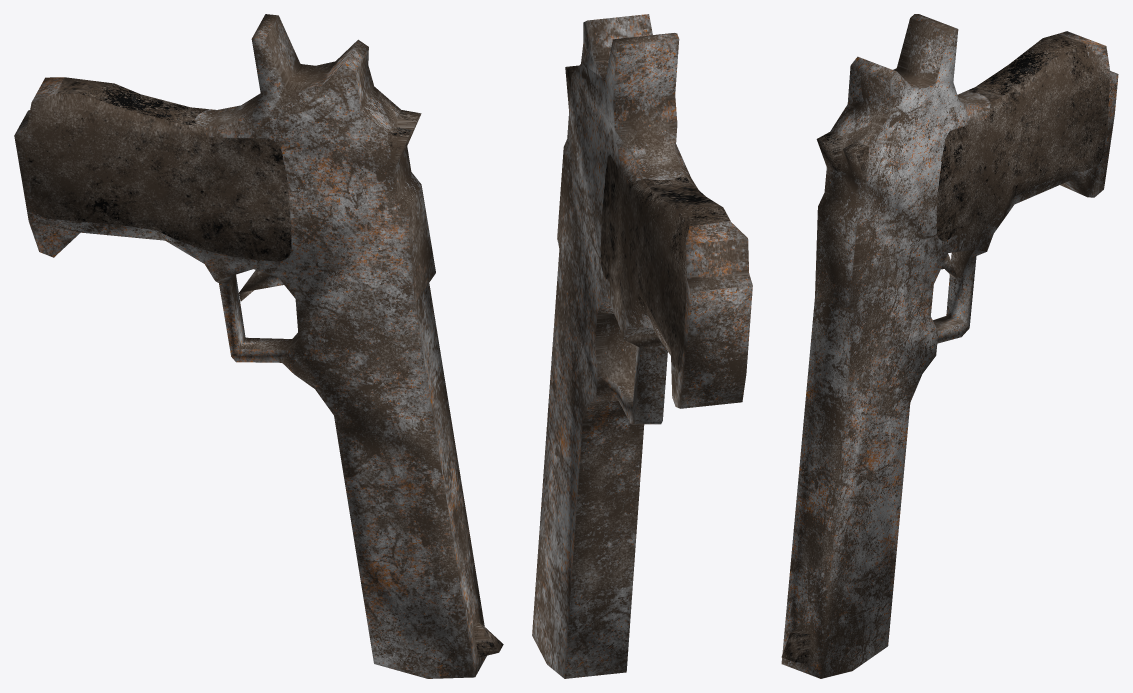
Rendered from Anim_idle_pistola_objetos.0037.obj.
The picture shows the model from 3 angles, left to right: view 1: azimuth 30°, elevation 25°; view 2: azimuth 150°, elevation 25°; view 3: azimuth 270°, elevation 25°; orthographic projection. The views are drawn at different scales.
Visible parts, largest first — view 1: Pistola1; view 2: Pistola1; view 3: Pistola1.
Boxes of the visible parts, left/top/right/bottom form: Pistola1: left=14, top=14, right=503, bottom=678; Pistola1: left=532, top=14, right=752, bottom=678; Pistola1: left=781, top=14, right=1118, bottom=678.
Size of the model in its own units: 0.933 by 1.66 by 0.8626.
